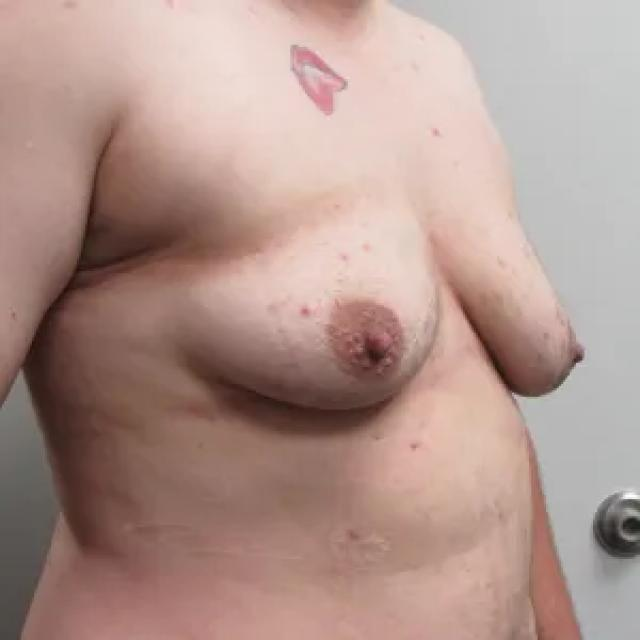Seno ileso: (172, 190, 441, 445), (446, 190, 600, 417)
